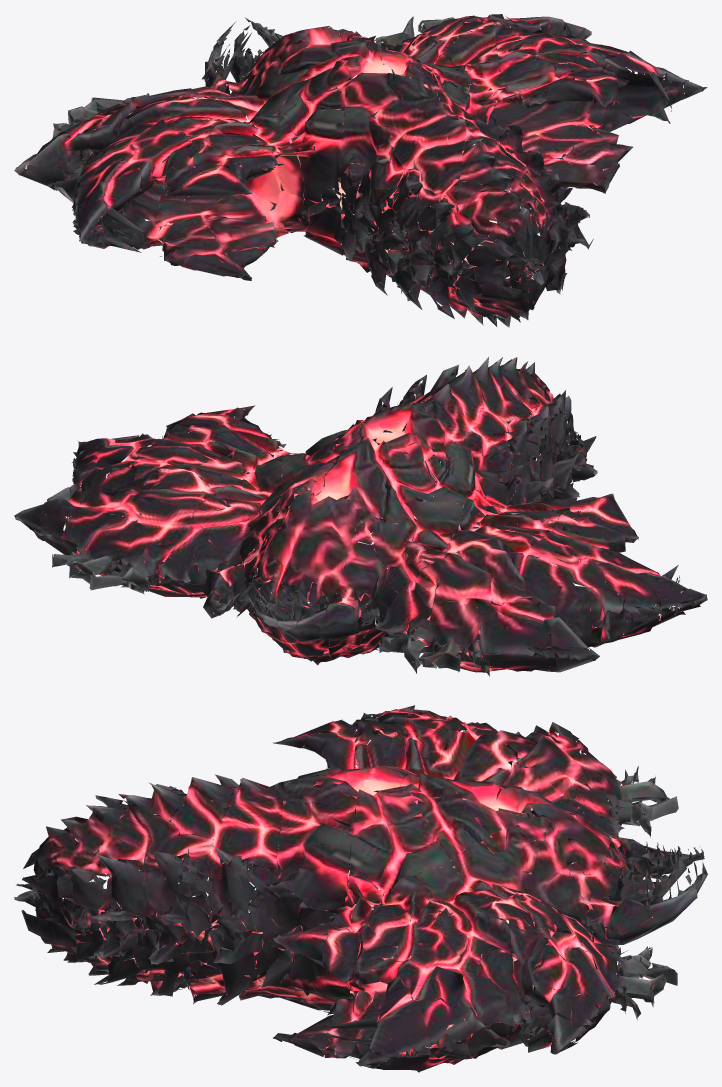
The model's file is vexor-v2.glb.
3 views of the same model, one above another, from view 1: azimuth 30°, elevation 25°; view 2: azimuth 150°, elevation 25°; view 3: azimuth 270°, elevation 25° (orthographic). The views are drawn at different scales.
Visible parts, largest first — view 1: vexor-v2; view 2: vexor-v2; view 3: vexor-v2.
Boxes of the visible parts, box(x1,y1,x2,y2) form: vexor-v2: box(14, 14, 707, 327); vexor-v2: box(14, 357, 707, 676); vexor-v2: box(14, 705, 707, 1072).
Size of the model in its own units: 1.9 by 0.5942 by 1.61.
Materials: 1 (1 with a texture image).
